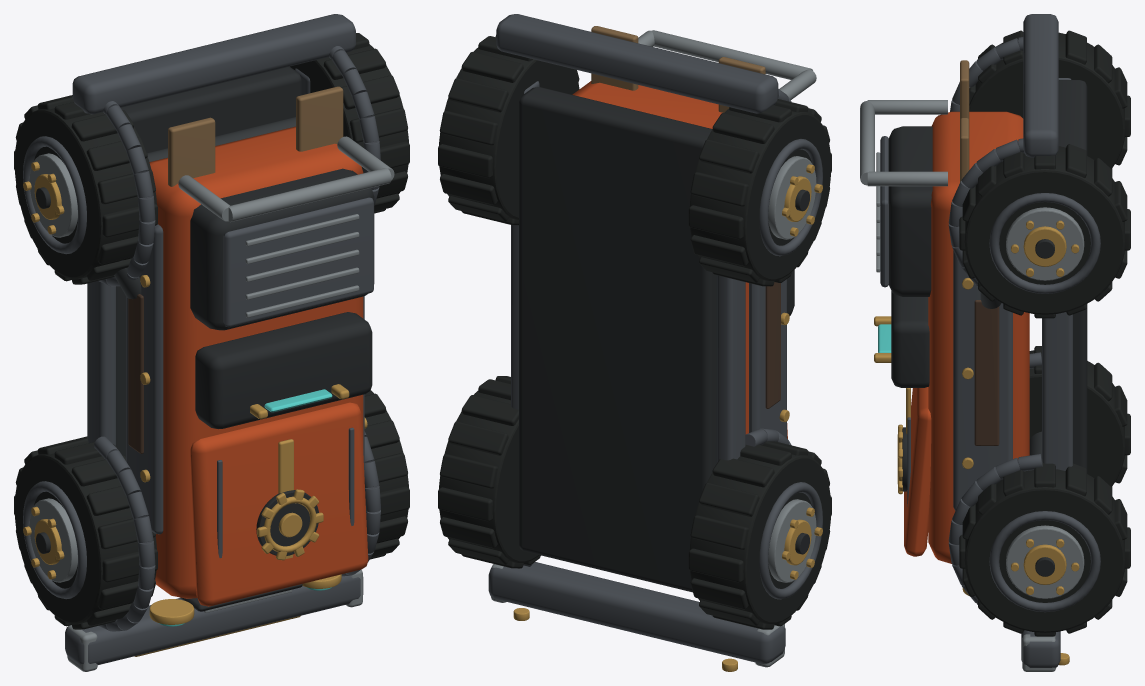
Rendered from IronTeethRcCar.obj.
3 views of the same model, side by side, from view 1: azimuth 30°, elevation 25°; view 2: azimuth 150°, elevation 25°; view 3: azimuth 270°, elevation 25° (orthographic). The views are drawn at different scales.
Parts seen in each view (by area): view 1: IronTeeth_RC_Car; view 2: IronTeeth_RC_Car; view 3: IronTeeth_RC_Car.
Part boxes in pixels (x1,y1,x2,y2): IronTeeth_RC_Car: (14,14,409,671); IronTeeth_RC_Car: (438,14,831,671); IronTeeth_RC_Car: (860,14,1130,671).
Bounding box in the file's own units: 0.882 × 1.45 × 0.6555.
